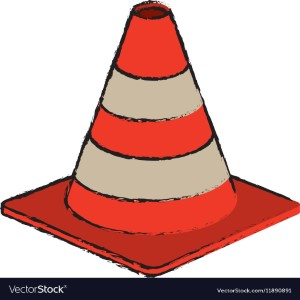traffic cone: (1, 1, 300, 277)
